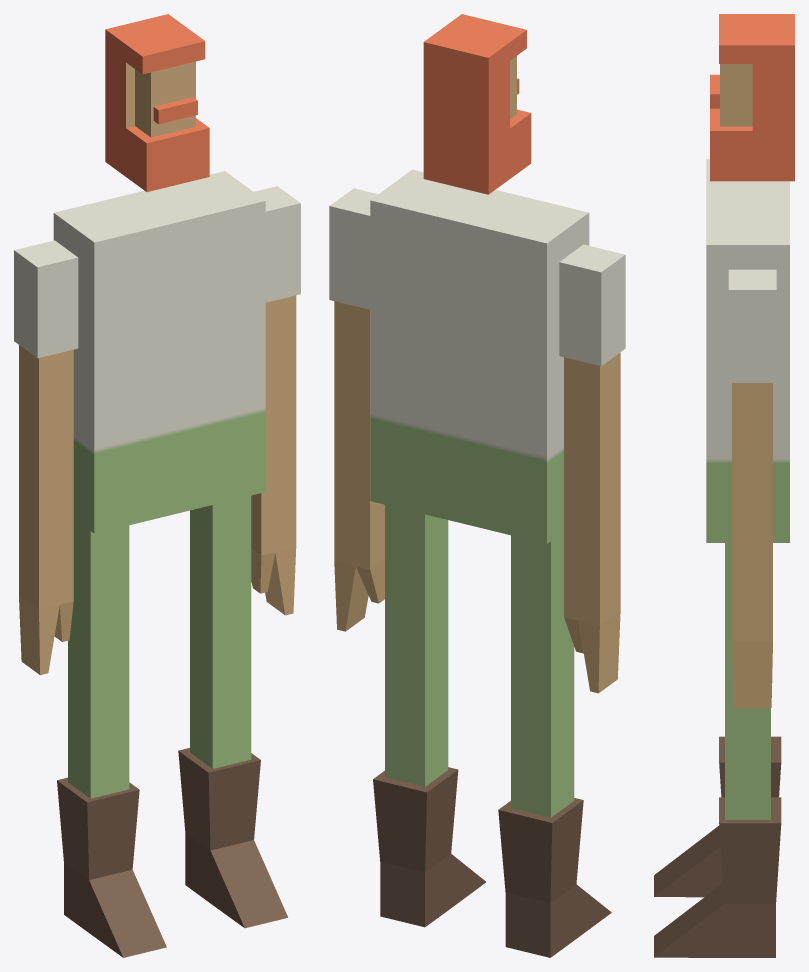
The model's file is block char.obj.
The picture shows the model from 3 angles, left to right: view 1: azimuth 30°, elevation 25°; view 2: azimuth 150°, elevation 25°; view 3: azimuth 270°, elevation 25°; orthographic projection. The views are drawn at different scales.
Parts seen in each view (by area): view 1: Cube.001_Cube.002; view 2: Cube.001_Cube.002; view 3: Cube.001_Cube.002.
Boxes of the visible parts, x1,y1,x2,y2 form: Cube.001_Cube.002: [14, 14, 300, 957]; Cube.001_Cube.002: [329, 14, 625, 957]; Cube.001_Cube.002: [654, 14, 794, 957].
Size of the model in its own units: 3.19 by 10.02 by 1.44.
